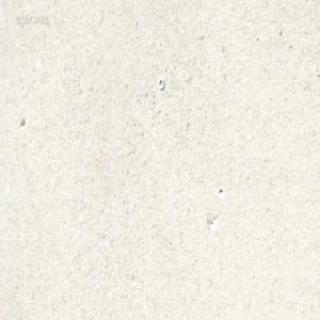Washertrack_idkeyframe: (156, 75, 164, 88)
